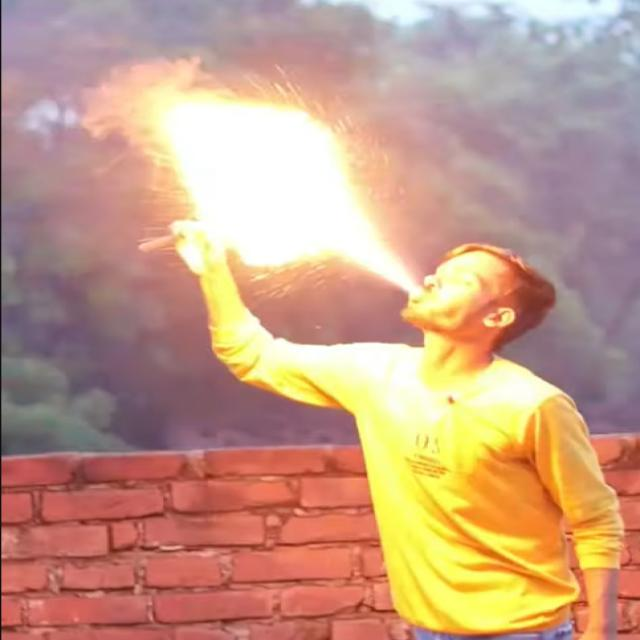fire: (150, 88, 424, 293)
